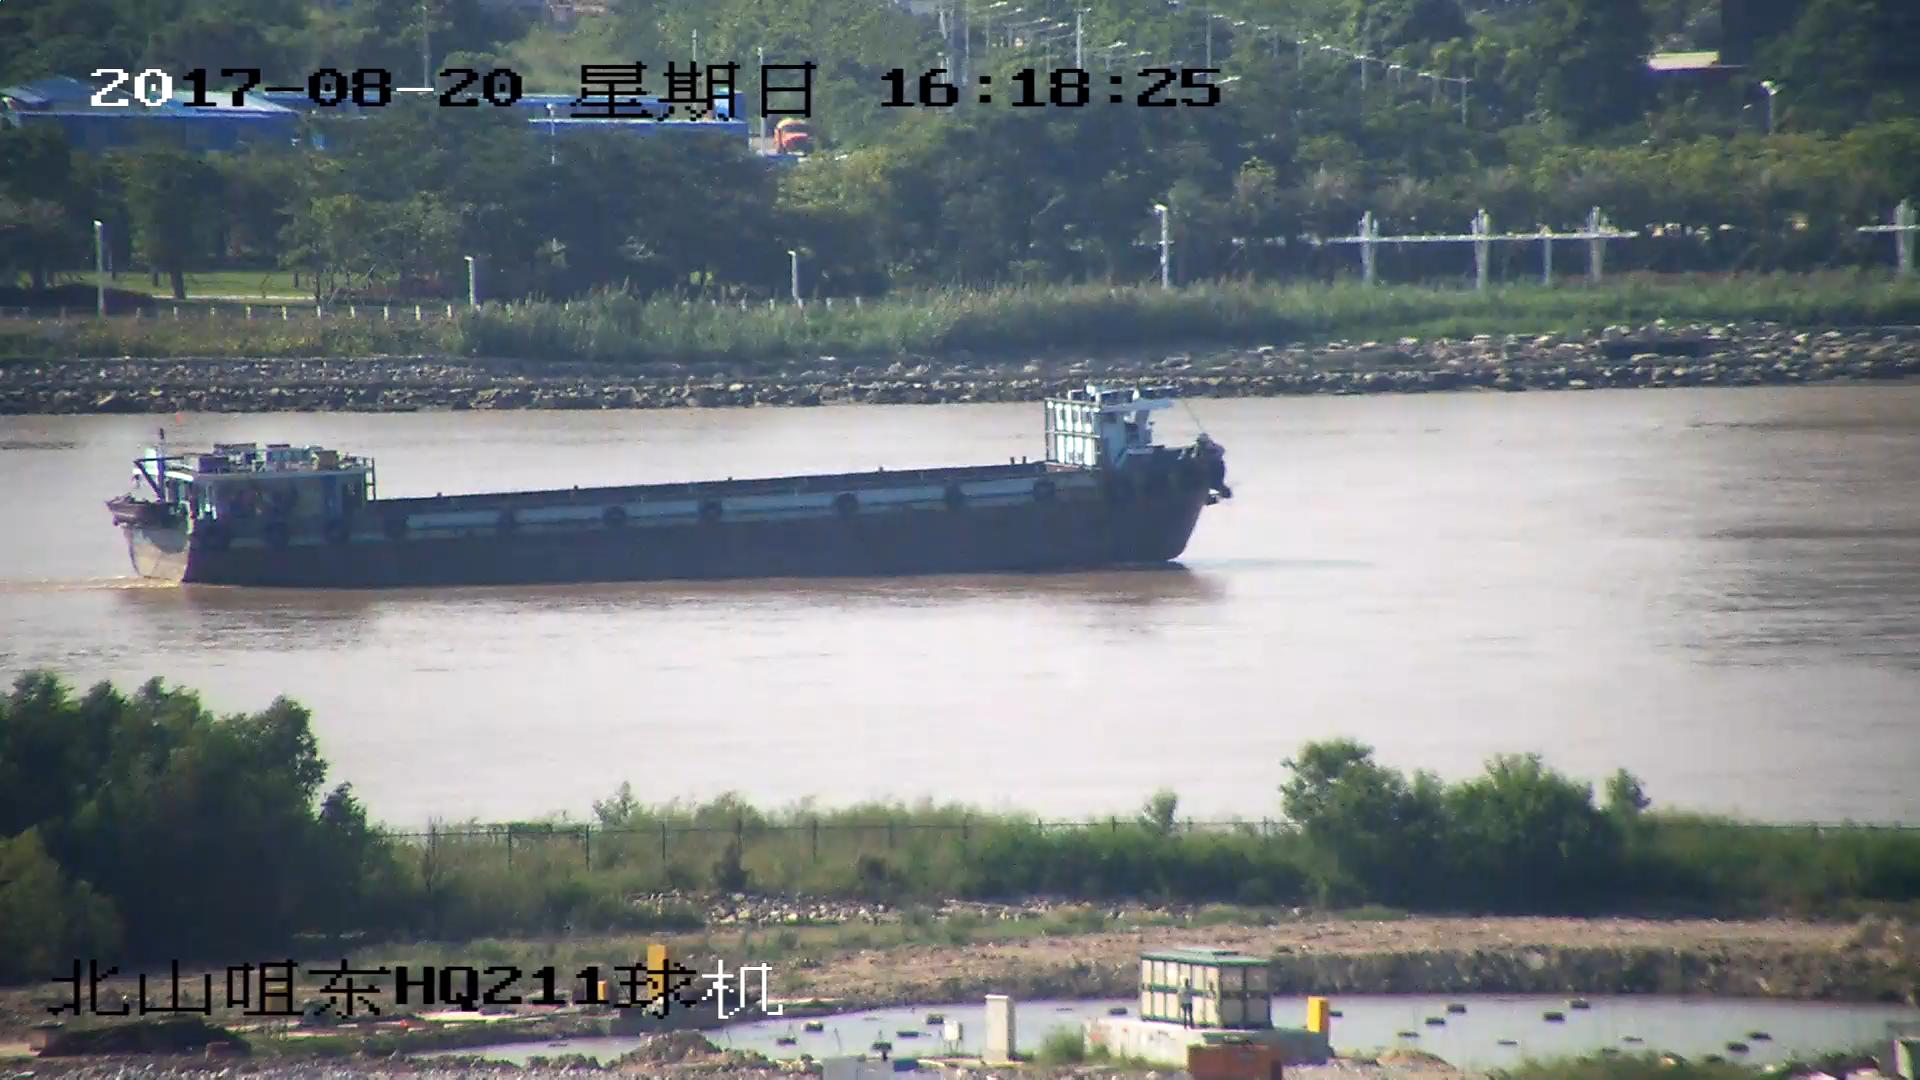general cargo ship: (111, 376, 1235, 582)
